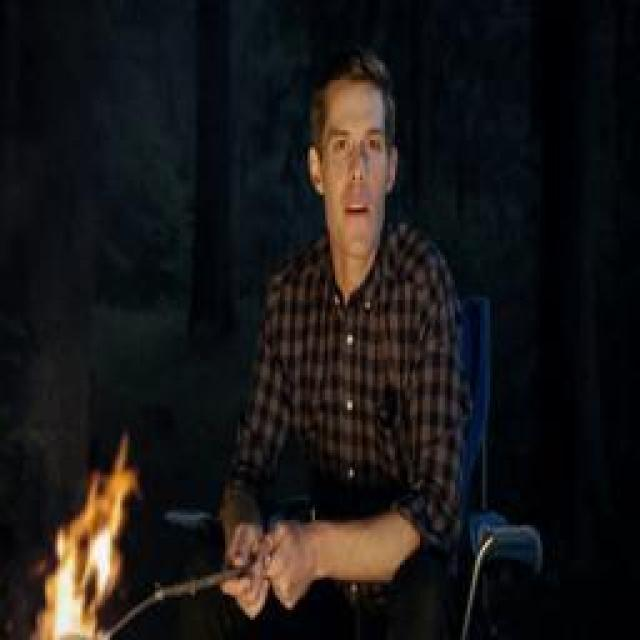Fire: (35, 440, 133, 640)
